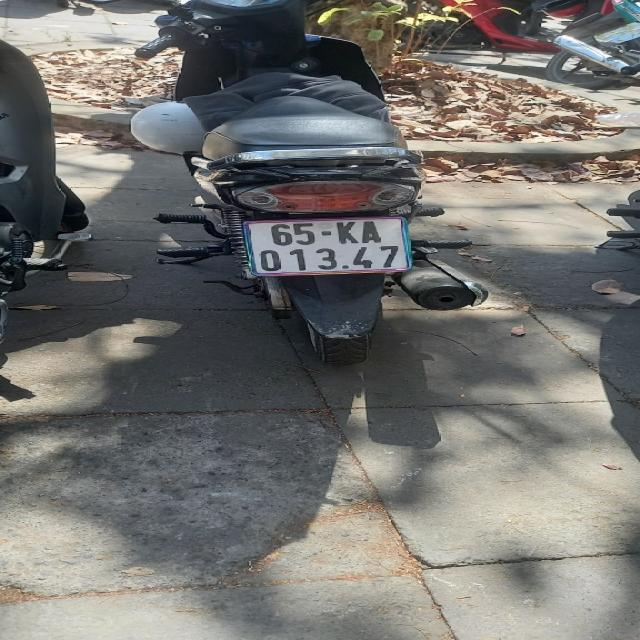0: (256, 250, 282, 271)
1: (289, 248, 310, 272)
3: (314, 248, 339, 270)
4: (352, 246, 374, 270)
5: (292, 220, 318, 244)
6: (270, 224, 292, 245)
7: (378, 245, 402, 268)
K: (336, 221, 358, 245), (362, 220, 383, 244)
